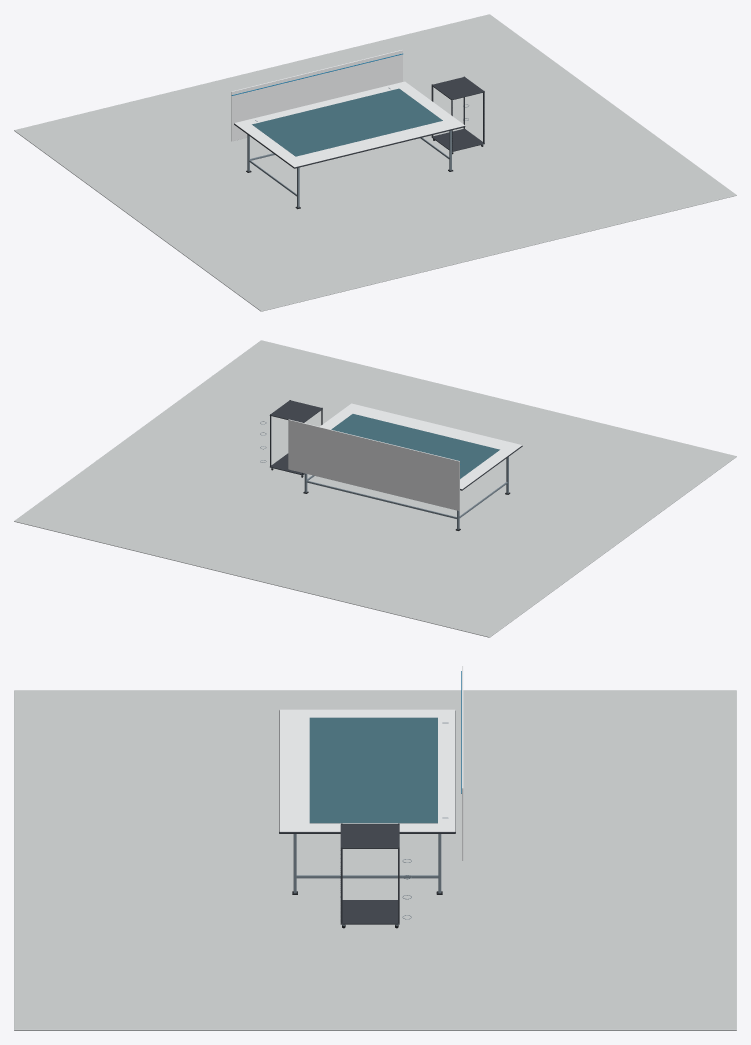
The model's file is lab-blender-room.glb.
3 renders of one model, top to bottom at view 1: azimuth 30°, elevation 25°; view 2: azimuth 150°, elevation 25°; view 3: azimuth 270°, elevation 25°, orthographic. The views are drawn at different scales.
Visible parts, largest first — view 1: Seamless room floor, ESD work mat, Back wall, White laminate work surface, lab_environment__graphite, lab_environment__steel; view 2: Seamless room floor, Back wall, ESD work mat, White laminate work surface, lab_environment__graphite, lab_environment__steel; view 3: Seamless room floor, ESD work mat, White laminate work surface, lab_environment__graphite, lab_environment__steel.
Boxes of the visible parts, x1,y1,x2,y2 form: Seamless room floor: (14,14,736,311); ESD work mat: (252,88,442,156); Back wall: (231,49,402,141); White laminate work surface: (234,81,465,167); lab_environment__graphite: (234,76,484,168); lab_environment__steel: (247,87,482,207); Seamless room floor: (14,340,736,637); Back wall: (288,419,459,510); ESD work mat: (331,414,499,478); White laminate work surface: (319,403,522,489); lab_environment__graphite: (269,400,522,490); lab_environment__steel: (271,457,508,529); Seamless room floor: (14,690,736,1030); ESD work mat: (309,717,437,823); White laminate work surface: (279,709,455,831); lab_environment__graphite: (279,710,455,924); lab_environment__steel: (293,722,448,925).
Size of the model in its own units: 100 by 15.61 by 90.
